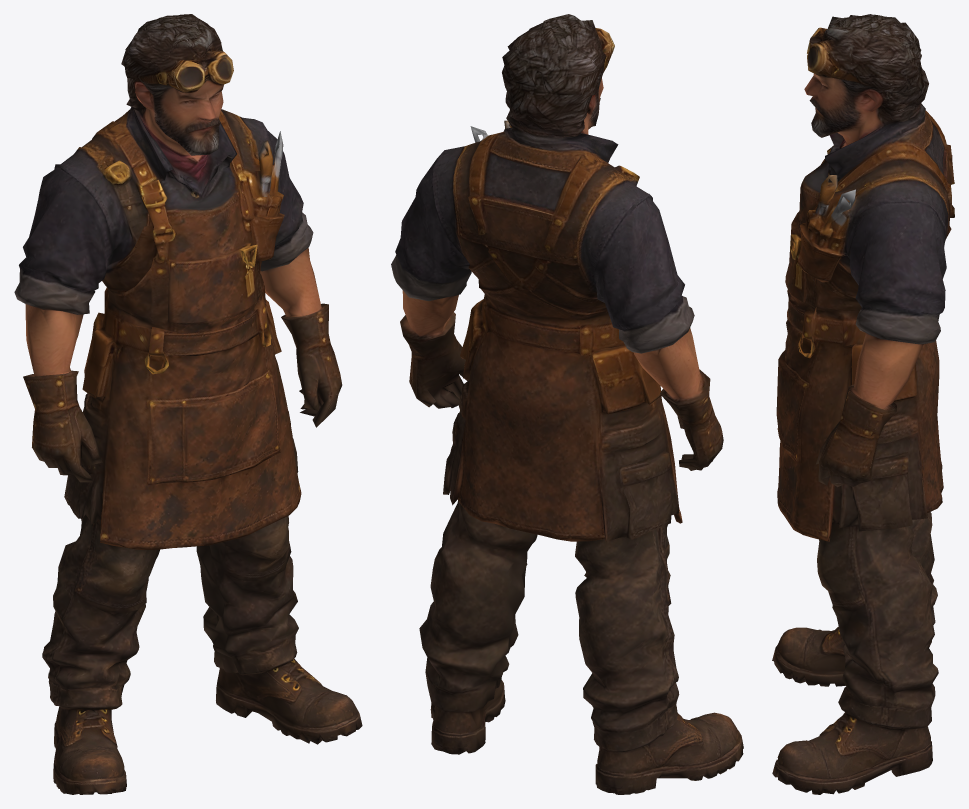
File: chief-mechanic.glb
3 views of the same model, side by side, from view 1: azimuth 30°, elevation 25°; view 2: azimuth 150°, elevation 25°; view 3: azimuth 270°, elevation 25° (orthographic). The views are drawn at different scales.
Visible parts, largest first — view 1: tripo_node_7be0cc08-39f8-47d3-8291-da0b01da483b; view 2: tripo_node_7be0cc08-39f8-47d3-8291-da0b01da483b; view 3: tripo_node_7be0cc08-39f8-47d3-8291-da0b01da483b.
Boxes of the visible parts, bbox=[...] form: tripo_node_7be0cc08-39f8-47d3-8291-da0b01da483b: bbox=[14, 14, 362, 794]; tripo_node_7be0cc08-39f8-47d3-8291-da0b01da483b: bbox=[391, 14, 743, 794]; tripo_node_7be0cc08-39f8-47d3-8291-da0b01da483b: bbox=[772, 14, 954, 794].
Size of the model in its own units: 0.4396 by 0.9992 by 0.2341.
Materials: 1 (1 with a texture image).
